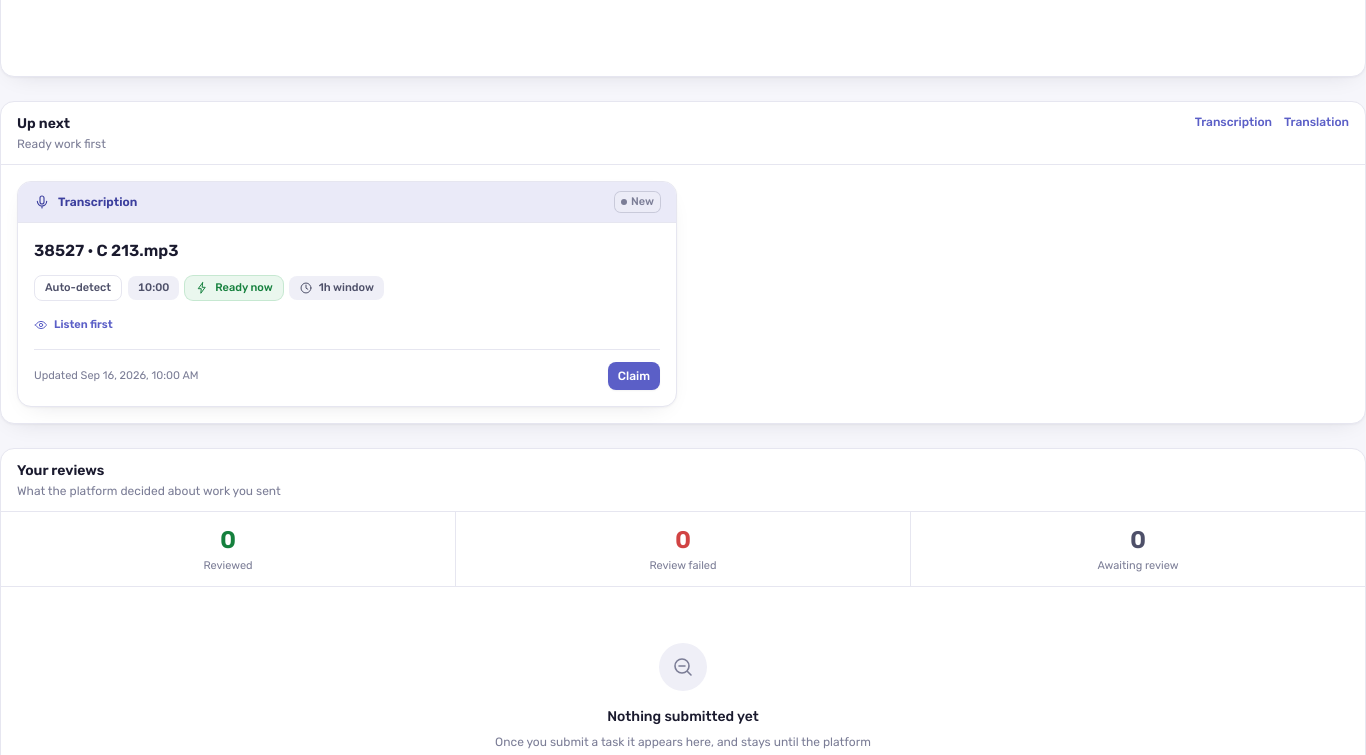
it: WorkerDashboard: claim confirmation survives the queue reshuffle › shows a page-anchored confirmation naming the task that was just claimed
This screenshot has width=1366, height=755.
(page scrolled)
Click the button "Claim" at (634, 376), box left=608, top=362, right=660, bottom=390
(page scrolled)
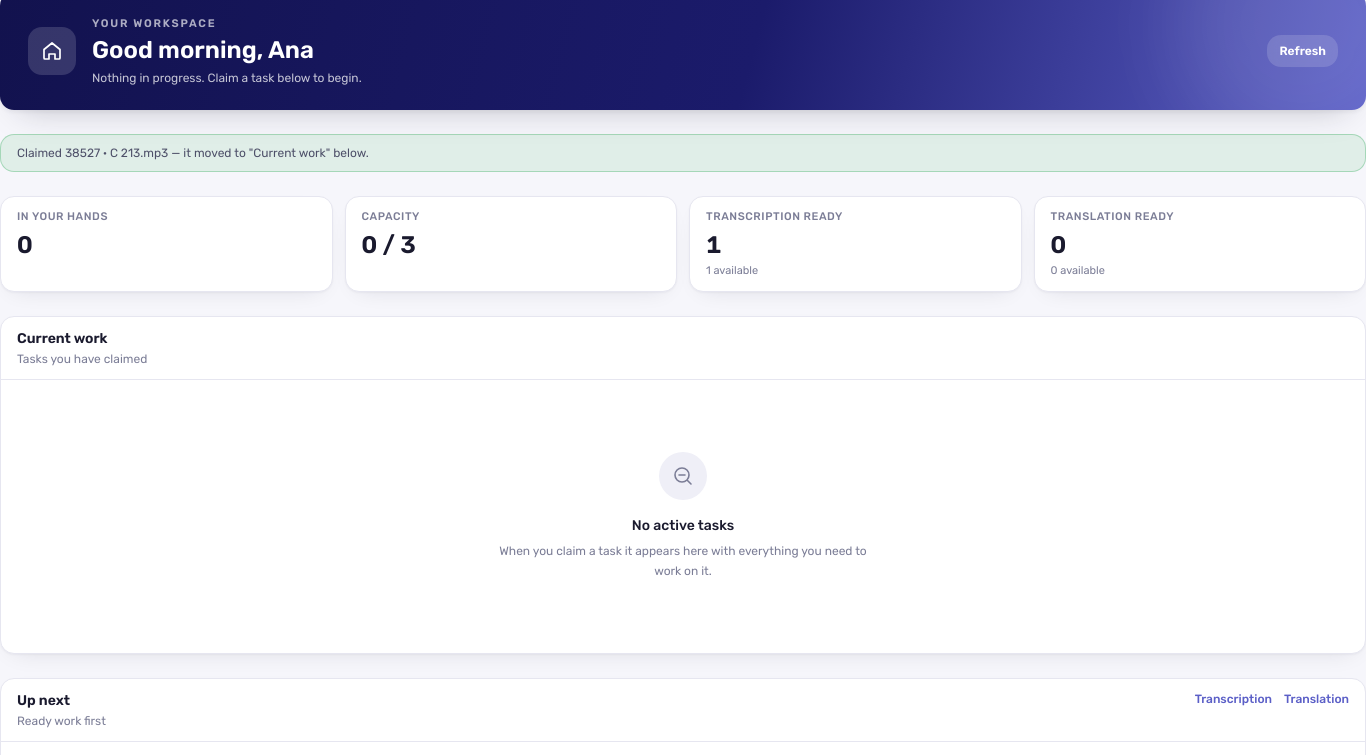
Check: the message reads "Claimed 38527 · C 213.mp3 — it moved to \"Current work\" below.", box left=17, top=146, right=369, bottom=160
